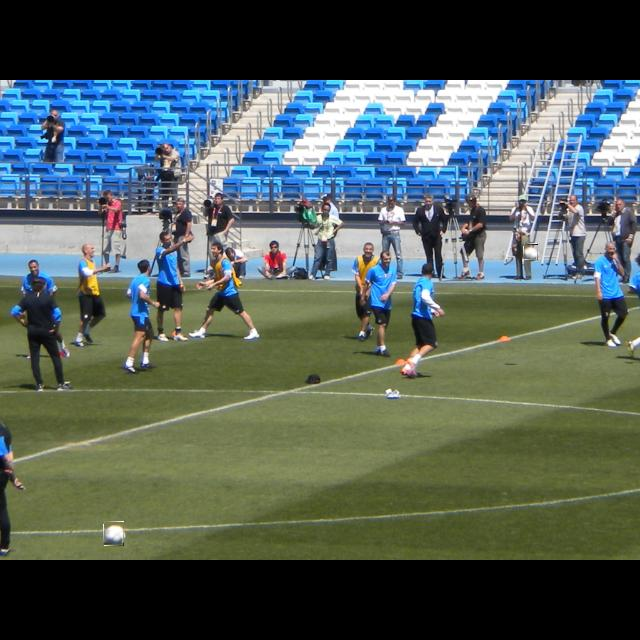Football: (104, 522, 124, 546), (524, 244, 538, 260)
